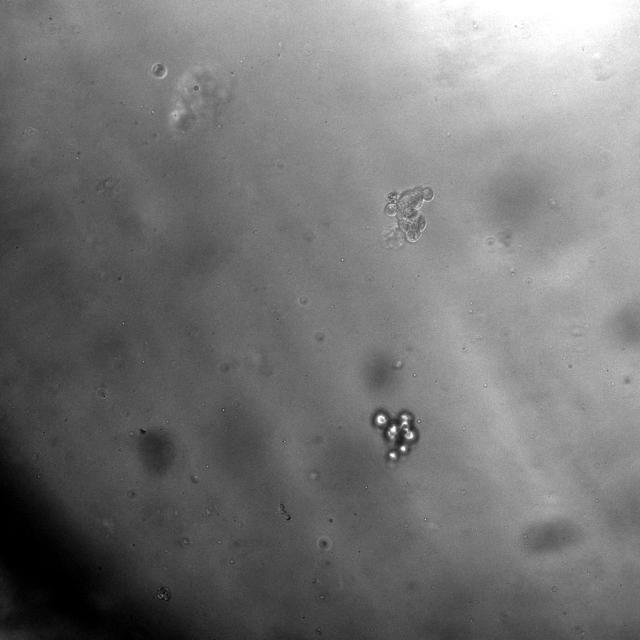organoid: (383, 185, 434, 247), (372, 410, 418, 461), (152, 63, 167, 78)
